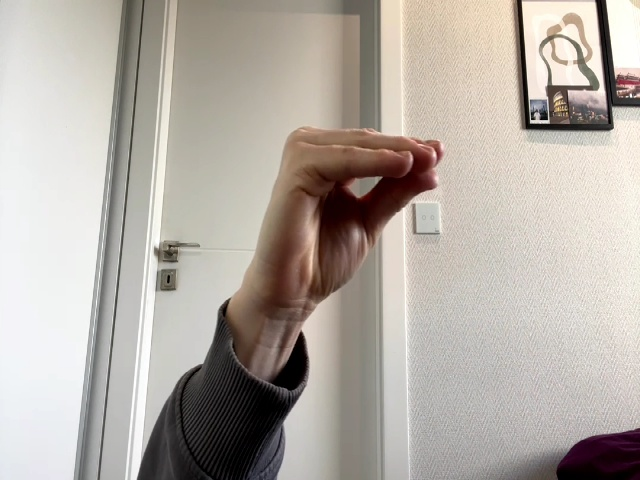E: (251, 127, 443, 324)
